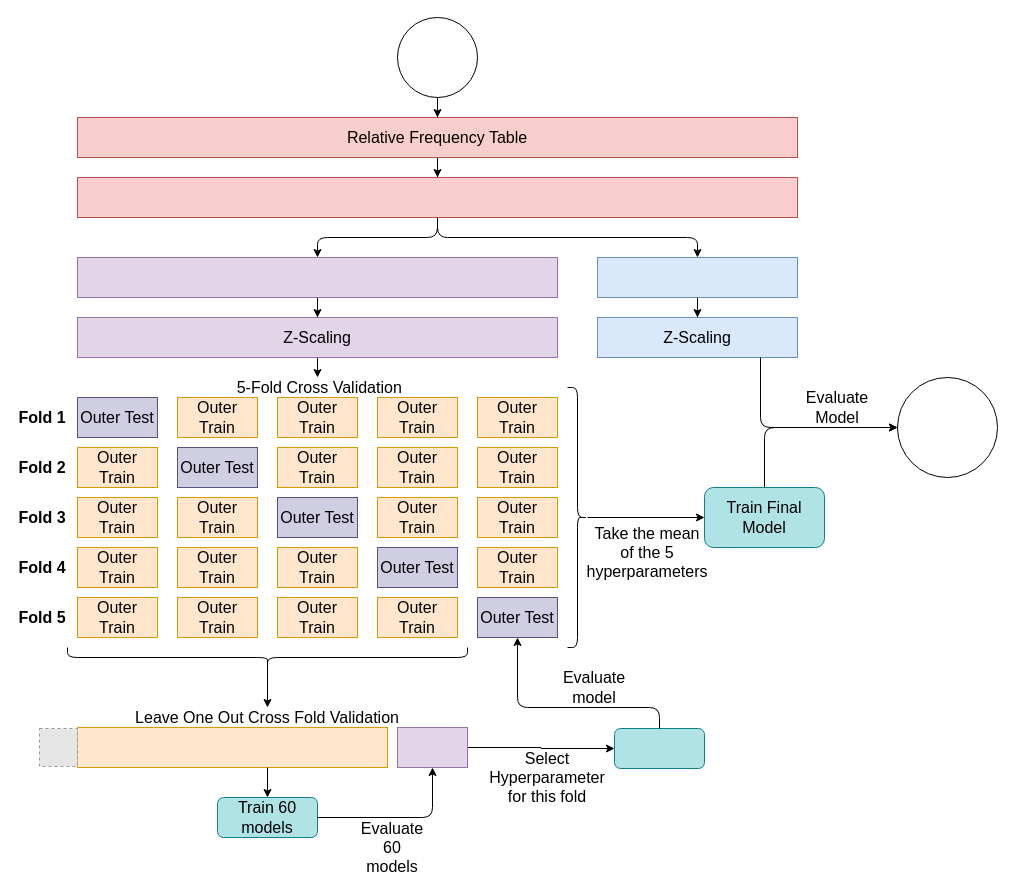
This 1015x894 diagram has some shape labels left out. Grey dashed boxes stand in for pictures. The centre of each missing label's shape, as x and y in pixels:
Evaluation Data: [697,277]
Inner Test: [432,747]
Inner Train: [232,747]
Log Tranformation: [437,197]
Predicted Ages: [947,427]
Start: [437,57]
Train Data: [317,277]
Train model: [659,748]
